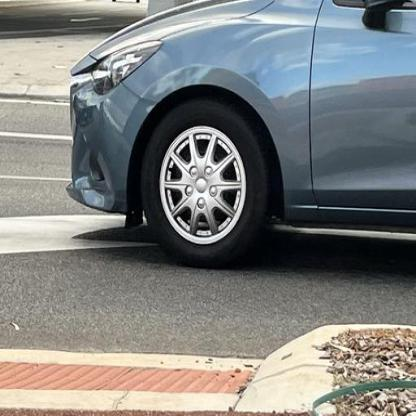Tire: (138, 96, 269, 269)
